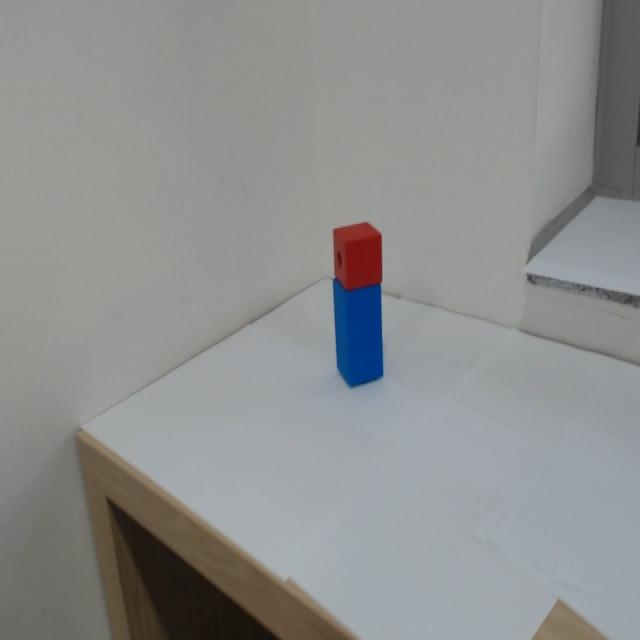cube: (326, 213, 413, 301)
